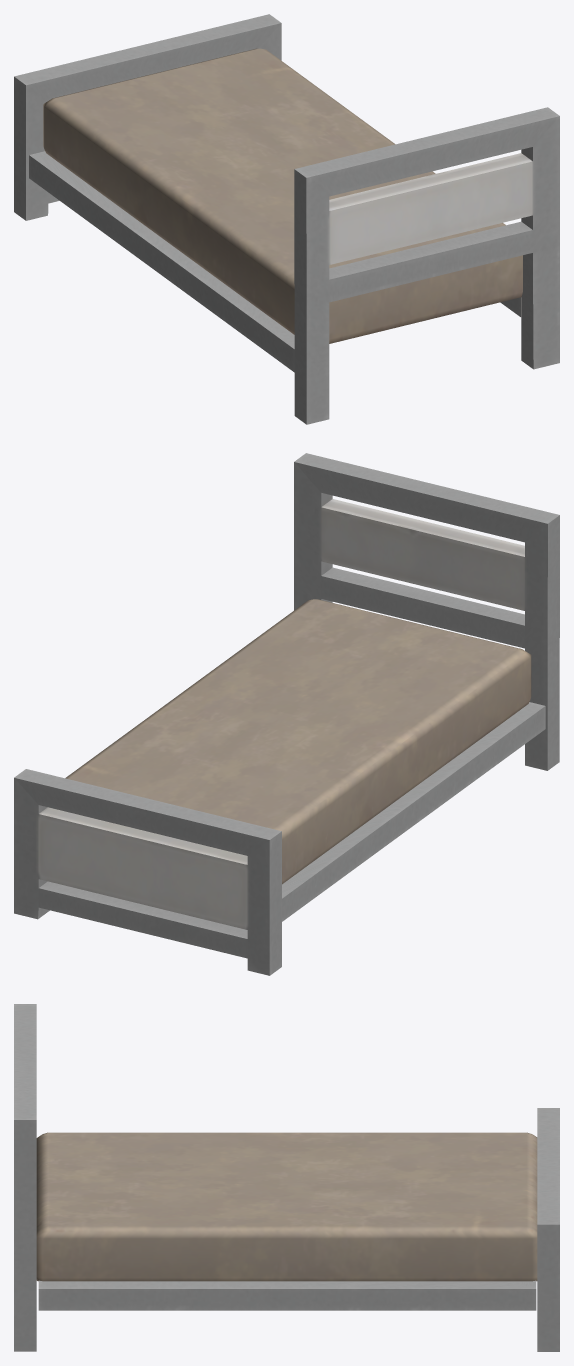
File: Pfb_Indoors_Bedroom_Bed.fbx
3 views of the same model, one above another, from view 1: azimuth 30°, elevation 25°; view 2: azimuth 150°, elevation 25°; view 3: azimuth 270°, elevation 25° (orthographic). The views are drawn at different scales.
Visible parts, largest first — view 1: Mat_Indoors_Bedroom_01 2; view 2: Mat_Indoors_Bedroom_01 2; view 3: Mat_Indoors_Bedroom_01 2.
Boxes of the visible parts, x1,y1,x2,y2 form: Mat_Indoors_Bedroom_01 2: [14, 14, 559, 424]; Mat_Indoors_Bedroom_01 2: [14, 453, 559, 975]; Mat_Indoors_Bedroom_01 2: [14, 1004, 559, 1351].
Size of the model in its own units: 1.15 by 1.06 by 2.27.
1 material, 1 textured.
